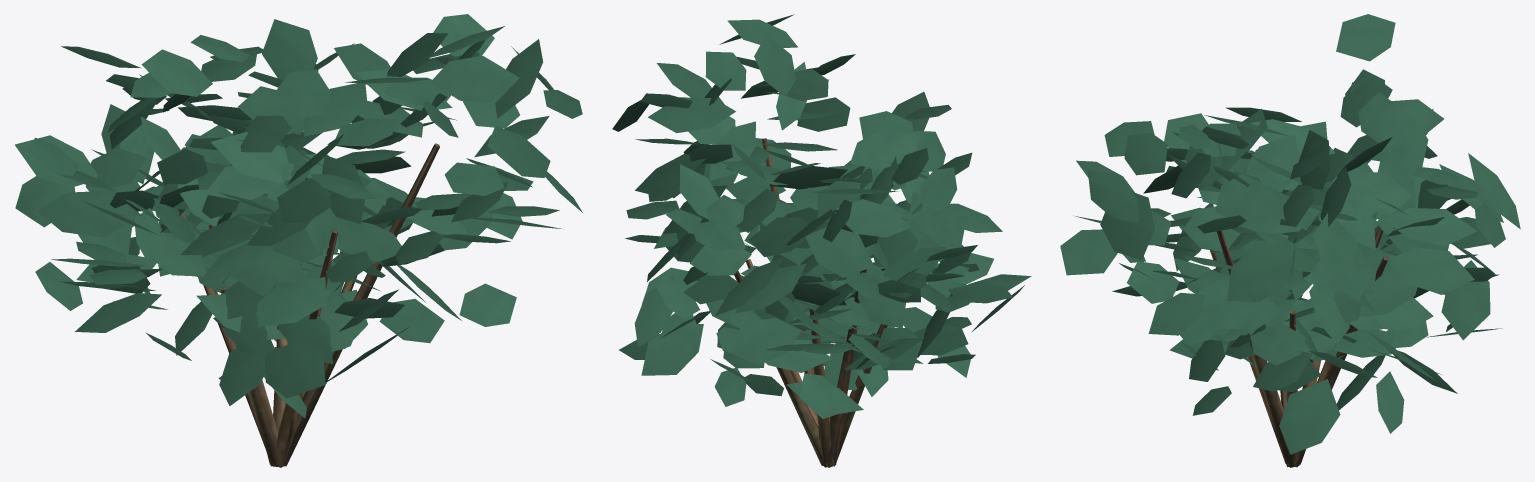
Rendered from Bush_B.glb.
The picture shows the model from 3 angles, left to right: view 1: azimuth 30°, elevation 25°; view 2: azimuth 150°, elevation 25°; view 3: azimuth 270°, elevation 25°; orthographic projection. The views are drawn at different scales.
Parts seen in each view (by area): view 1: Bush_B; view 2: Bush_B; view 3: Bush_B.
Part boxes in pixels (x1,y1,x2,y2): Bush_B: [15, 14, 582, 467]; Bush_B: [612, 14, 1031, 467]; Bush_B: [1060, 14, 1520, 467].
Bounding box in the file's own units: 1.52 × 1.31 × 1.4.
Materials: 1 (1 with a texture image).
